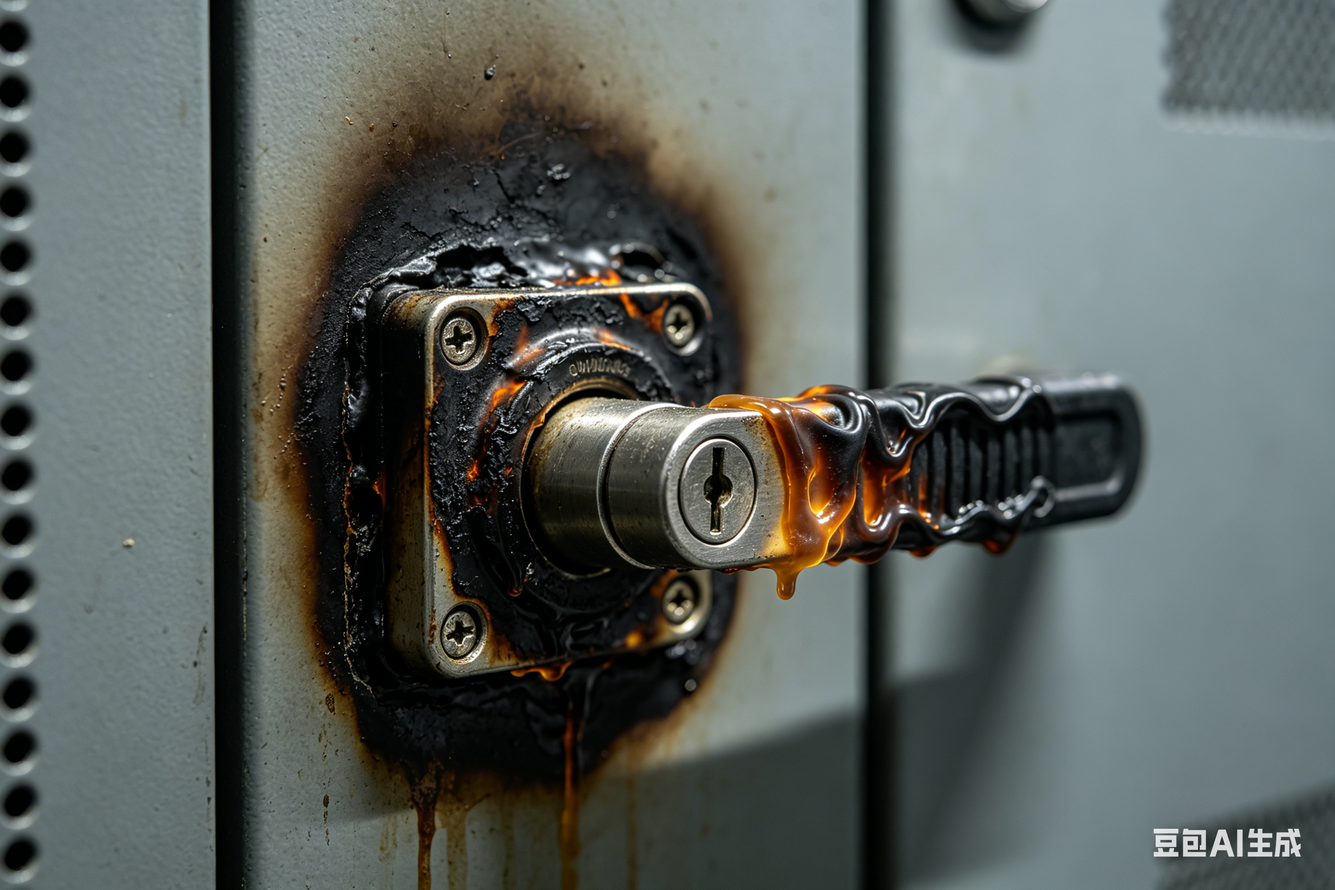BadLock: (420, 298, 1158, 542)
